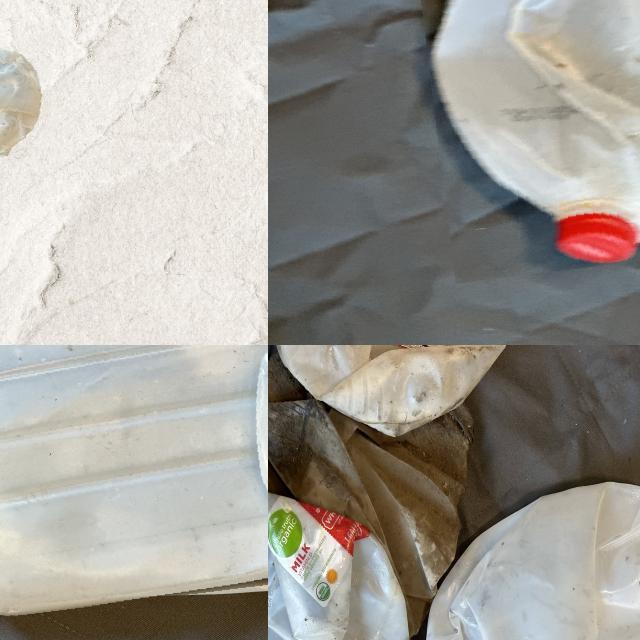milk-jug: (0, 345, 268, 612), (417, 0, 640, 271), (418, 475, 640, 640), (268, 345, 519, 433), (268, 484, 407, 640), (0, 39, 54, 160)
